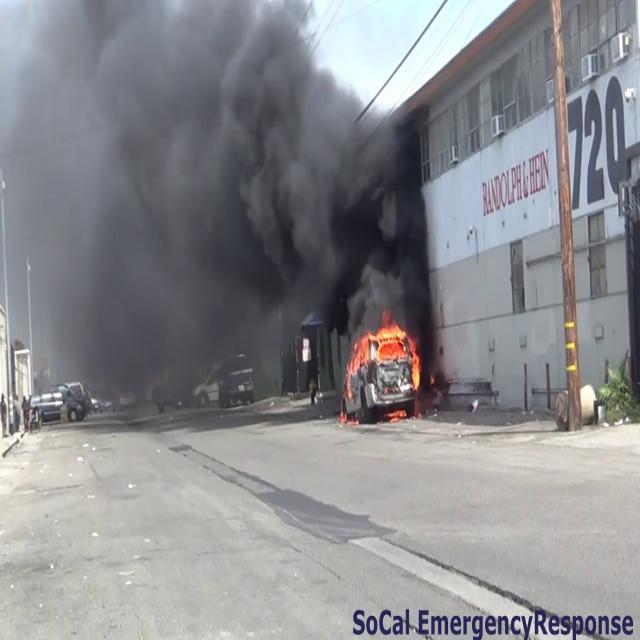Fire: (344, 309, 424, 406)
Smoke: (0, 0, 448, 384)
